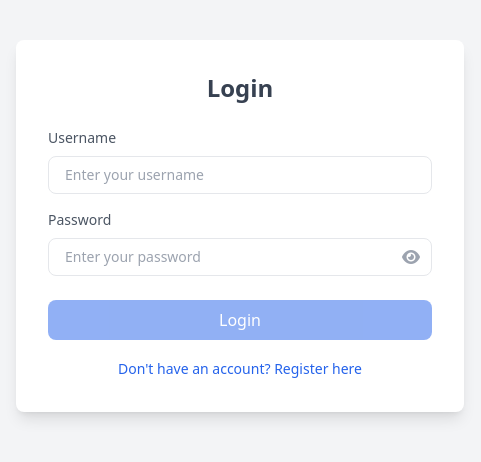
Test case: Login Page › Form Validation › should show validation errors when submitting empty form
What coordinates should you click on to do the following:
click the field named "username"
I would click on:
 (240, 175)
Its box is 48,156 -> 432,194.
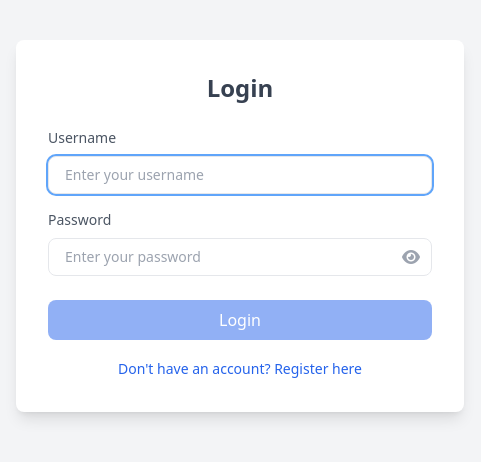
What coordinates should you click on to do the following:
click the password field named "password"
I would click on:
 (240, 257)
Its box is 48,238 -> 432,276.
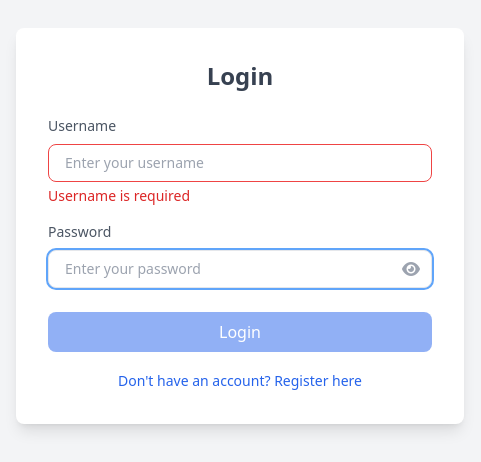
What coordinates should you click on to do the following:
click the submit button
I would click on:
 (240, 332)
Its box is 48,312 -> 432,352.
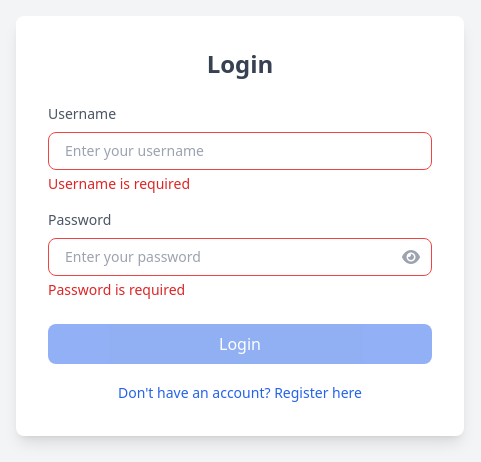
Expected: the text "Username is required" is shown, 48,174 -> 190,193
Expected: the text "Password is required" is shown, 48,280 -> 185,299
